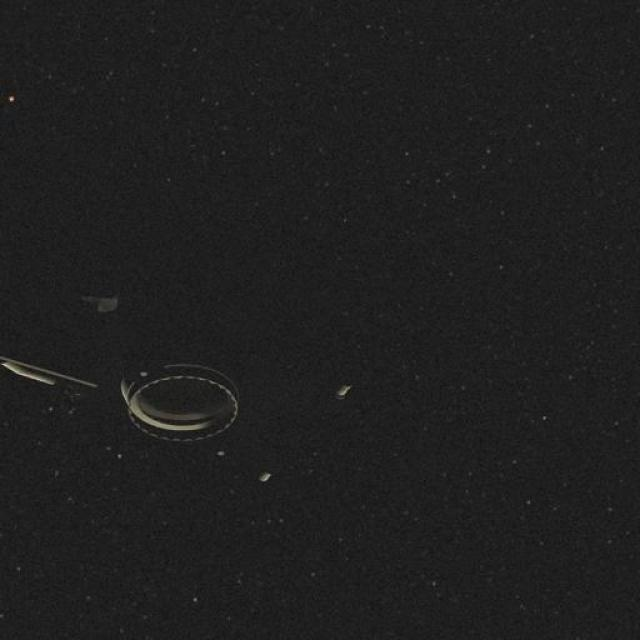proba_3_csc: (1, 271, 374, 508)
